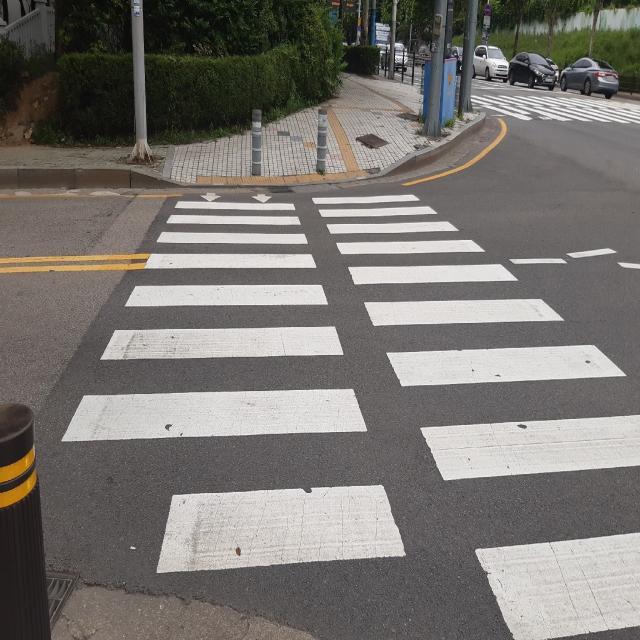횡단보도: (62, 192, 640, 640), (480, 97, 634, 122)
